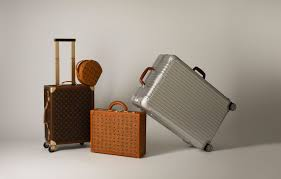suitcase: (130, 55, 237, 151), (39, 38, 96, 152)
